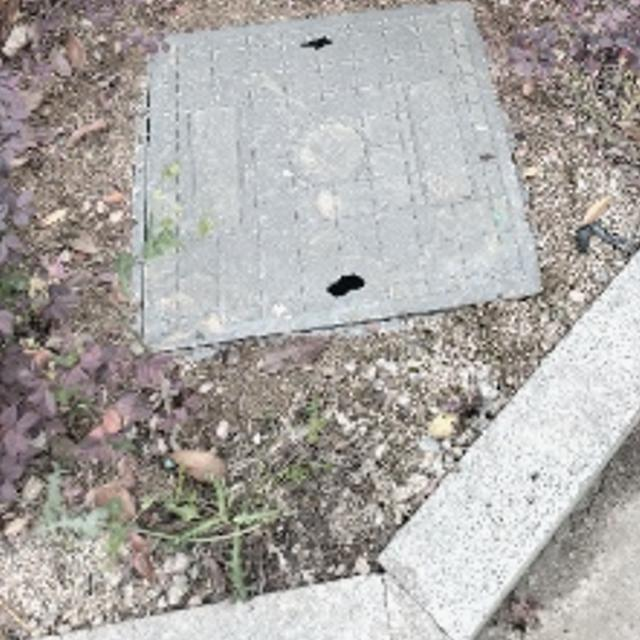good: (138, 0, 546, 347)
